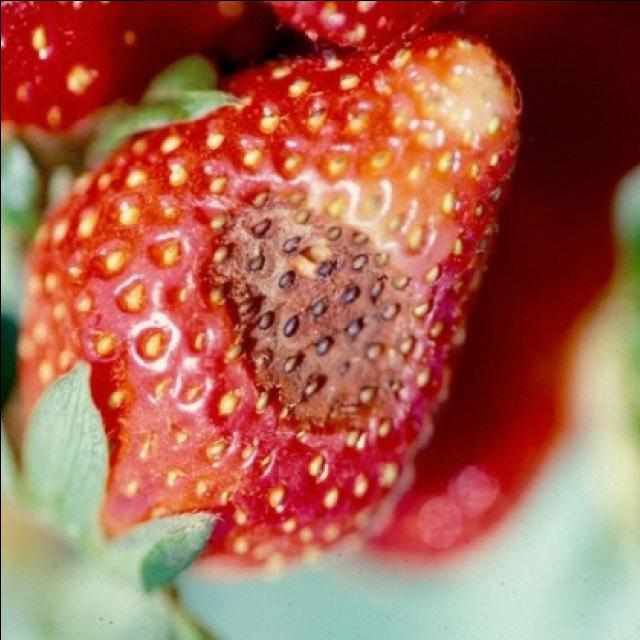Anthracnose Fruit Rot: (186, 180, 444, 446)
